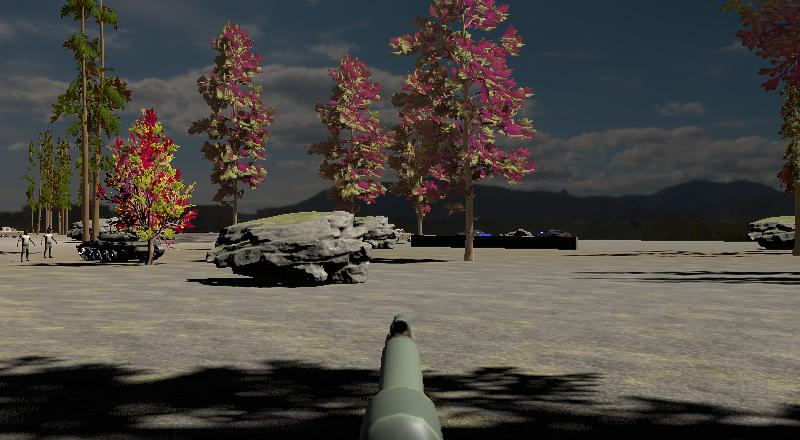Human: (16, 230, 35, 263)
Tank: (75, 229, 165, 266)
car: (446, 226, 503, 250), (0, 224, 22, 240)
